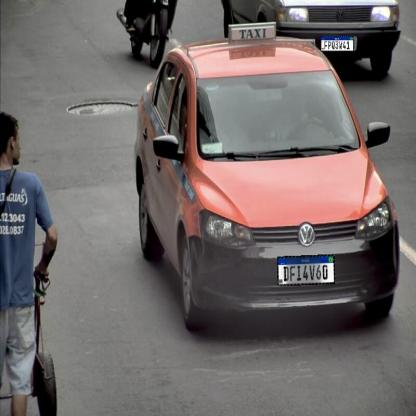PlacaM: (277, 254, 335, 286), (320, 36, 354, 51)
